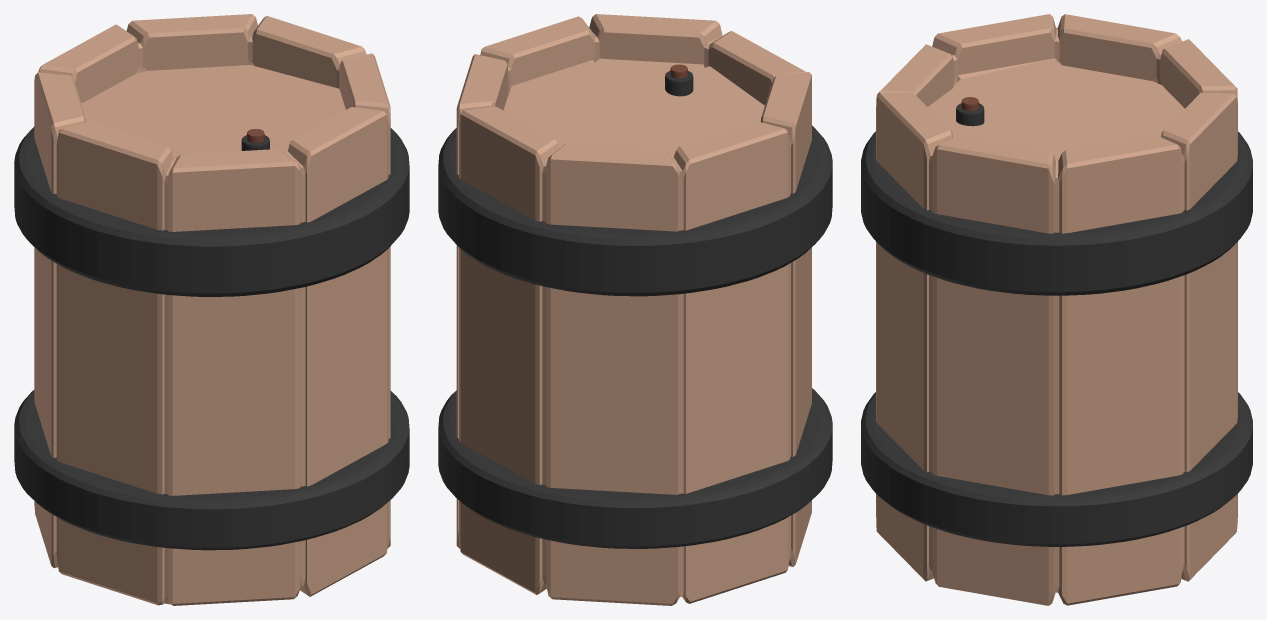
The model's file is barrel_1_garden.fbx.
The picture shows the model from 3 angles, left to right: view 1: azimuth 30°, elevation 25°; view 2: azimuth 150°, elevation 25°; view 3: azimuth 270°, elevation 25°; orthographic projection.
Visible parts, largest first — view 1: barrel_1_garden, Cylinder.037; view 2: barrel_1_garden, Cylinder.037; view 3: barrel_1_garden, Cylinder.037.
Boxes of the visible parts, x1,y1,x2,y2 form: barrel_1_garden: (34, 14, 390, 605); Cylinder.037: (14, 126, 409, 550); barrel_1_garden: (456, 14, 811, 605); Cylinder.037: (438, 71, 832, 548); barrel_1_garden: (876, 14, 1237, 605); Cylinder.037: (861, 103, 1252, 546).
Size of the model in its own units: 56.1 by 69.8 by 56.1.
